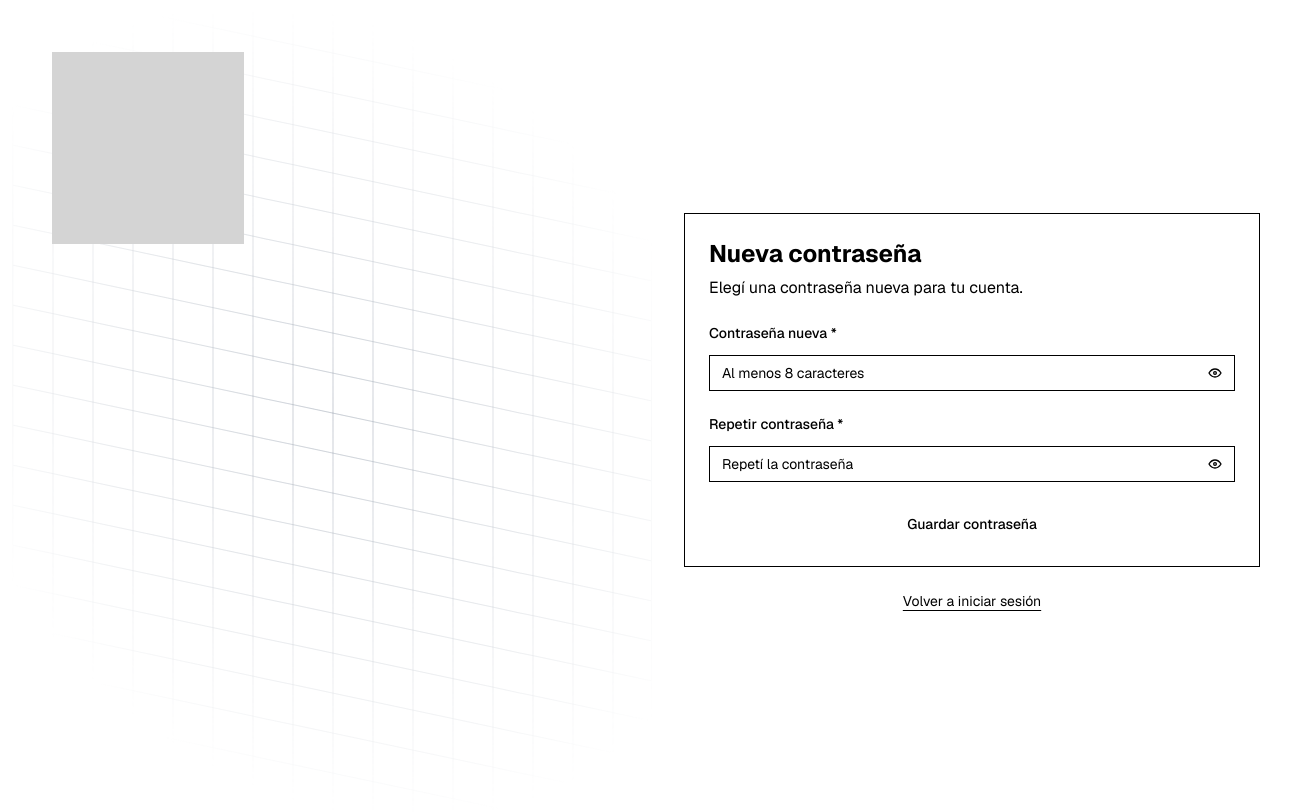
Test: ResetPasswordViewPage › renders its own link-recovery copy for an invalid or expired reset token
Type "newpassword1" into the password field labelled "Contraseña nueva *" at (972, 373), box 709,355 -> 1235,391
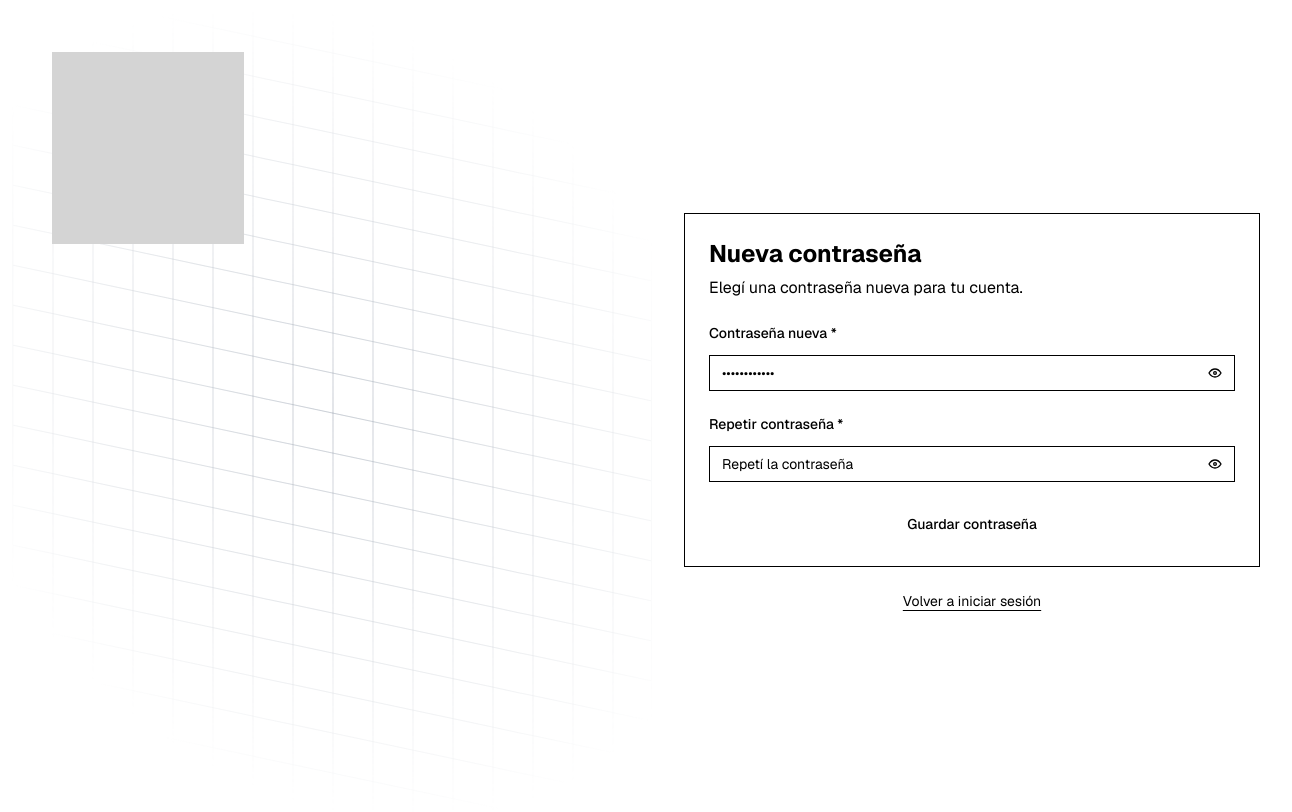
Type "newpassword1" into the password field labelled "Repetir contraseña *" at (972, 464), box 709,446 -> 1235,482
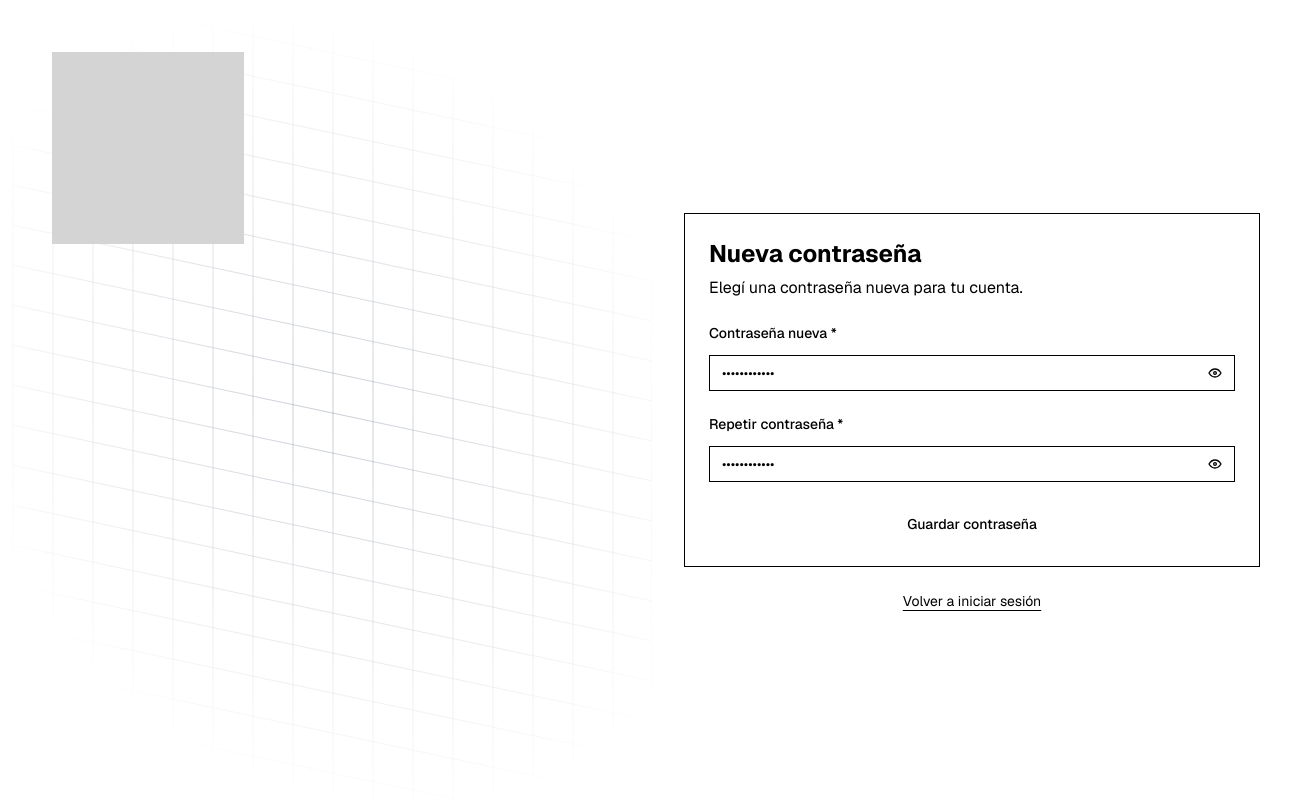
Click the button "Guardar contraseña" at (972, 524), box 709,506 -> 1235,542
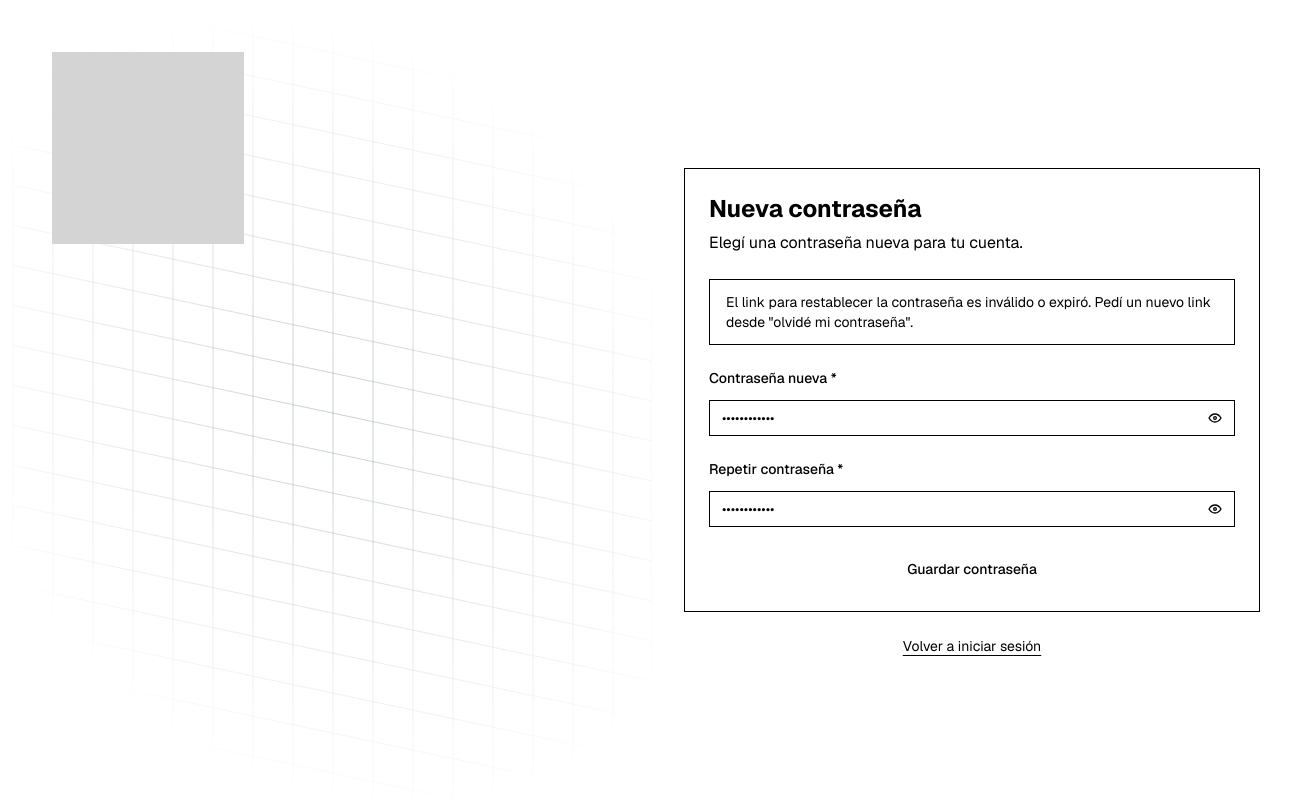
expect the text "El link para restablecer la contraseña es inválido o expiró" is shown: met, box 726,293 -> 1211,331
